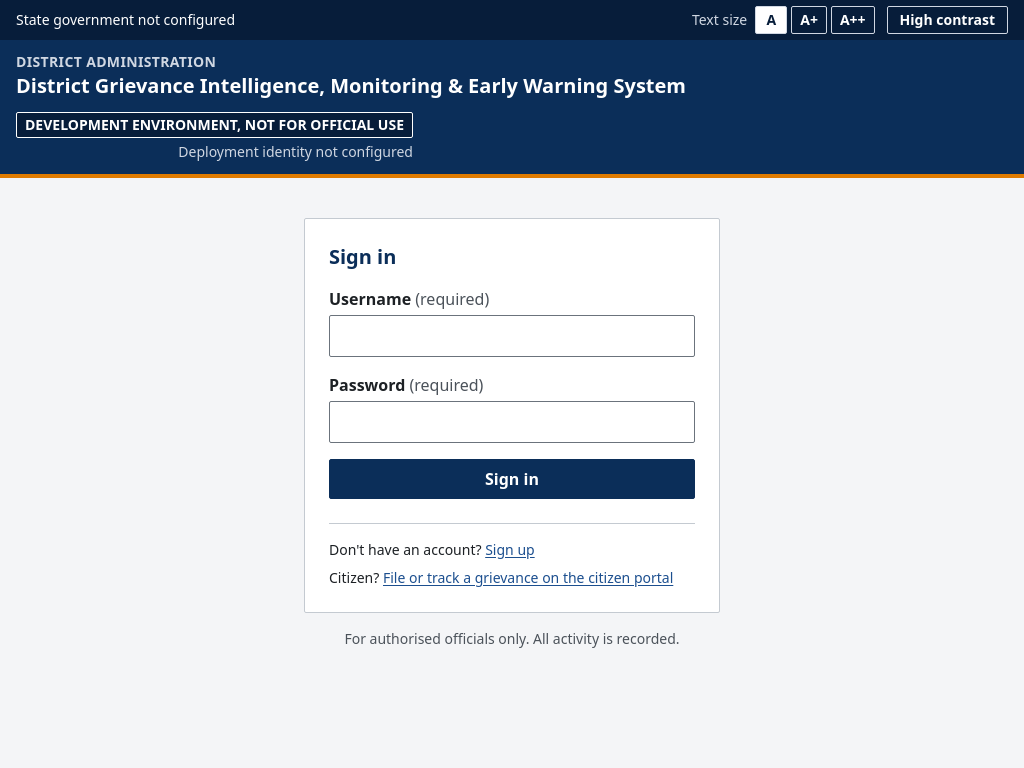
it: Sign-in flow › validates, shows the generic server error and never echoes the password
The width and height of the screenshot is (1024, 768).
Click the button "Sign in". click: (512, 478)
box: x1=329 y1=458 x2=695 y2=498
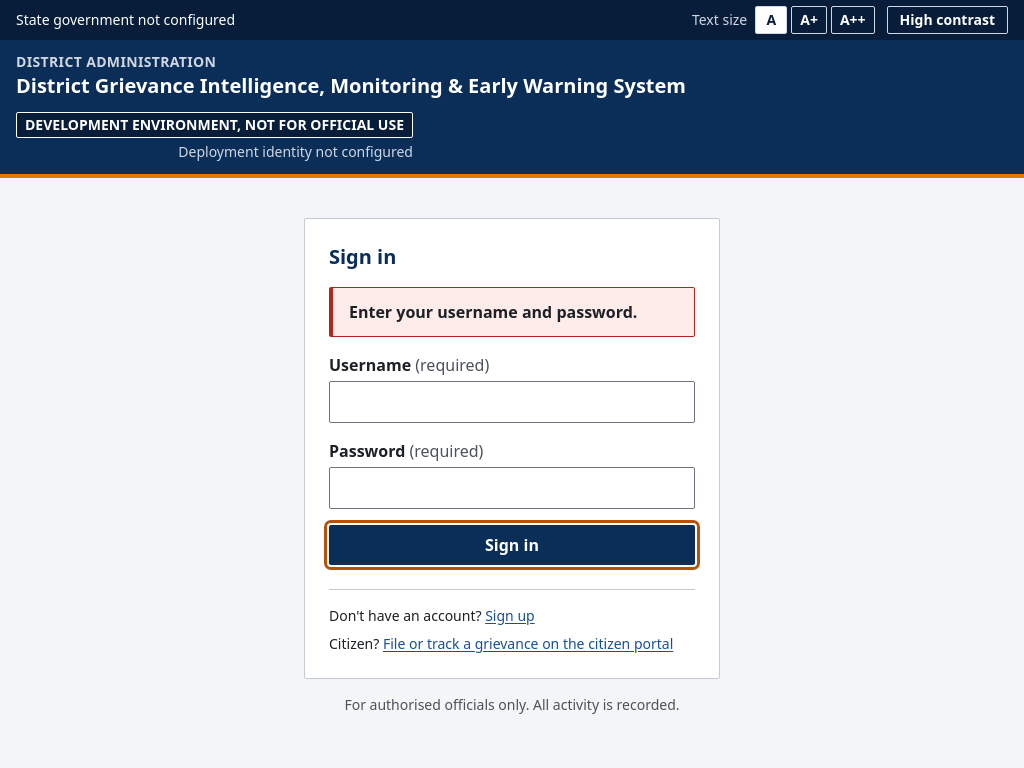
Expected: the message reads "Enter your username and password.", x1=349 y1=300 x2=637 y2=322
Type "officer" into the field labelled "Username (required)". click: (512, 402)
box: x1=329 y1=380 x2=695 y2=422
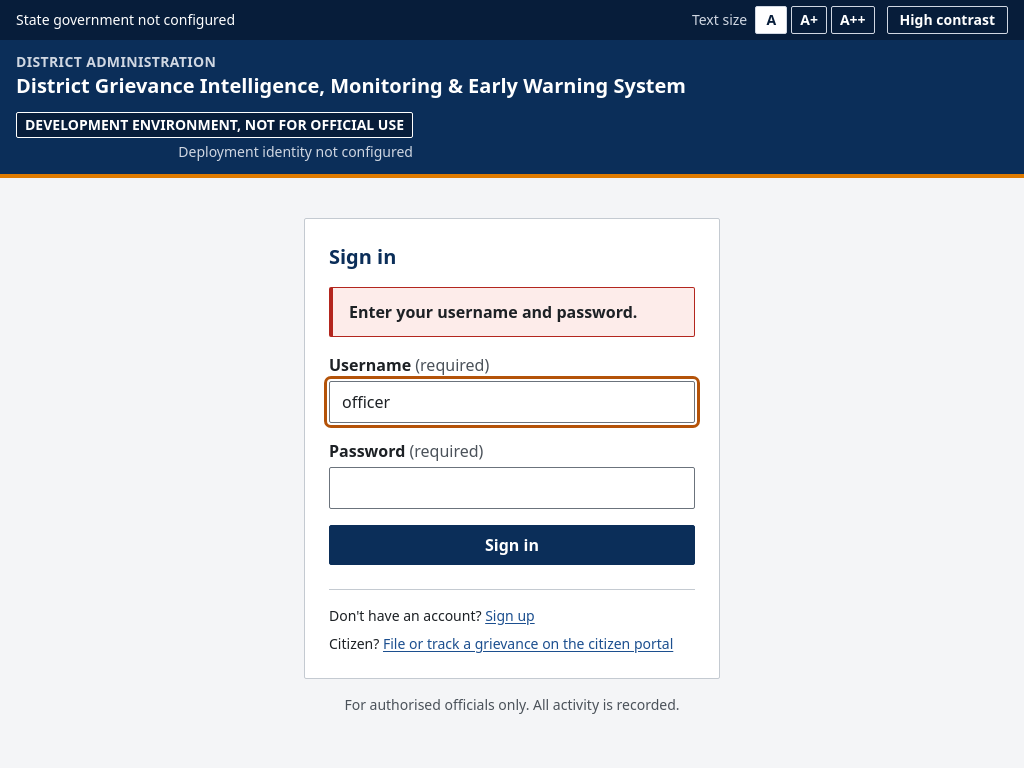
Type "wrong-pass" into the password field labelled "Password (required)". click: (512, 488)
box: x1=329 y1=466 x2=695 y2=508
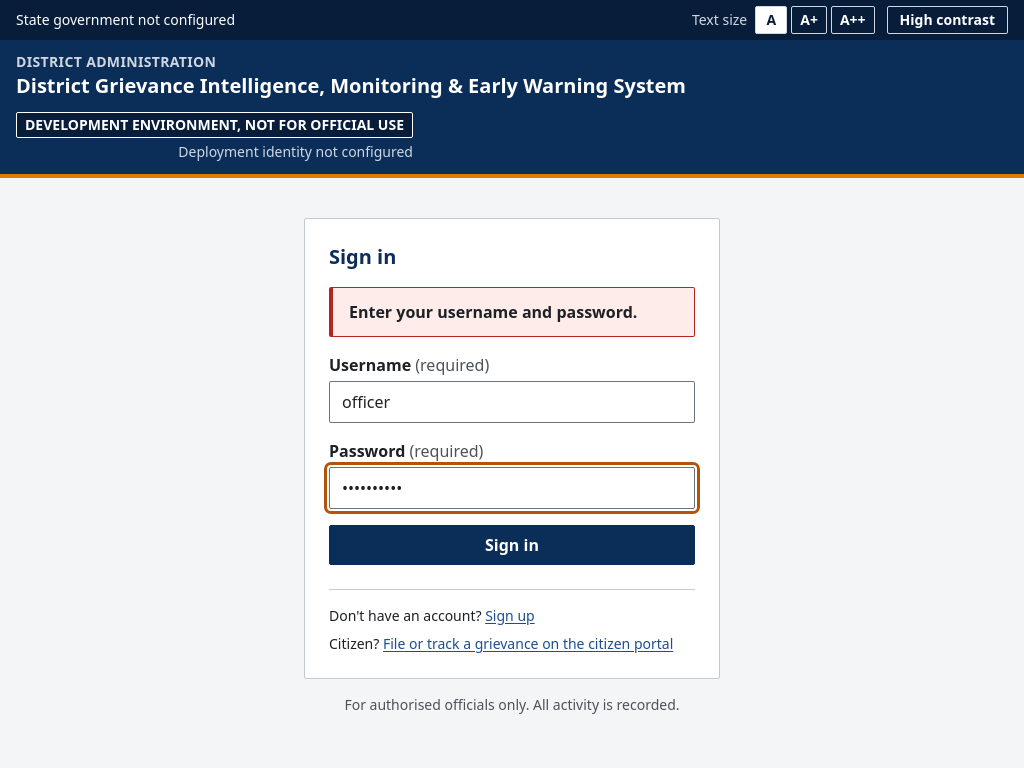
Click the button "Sign in". click: (512, 544)
box: x1=329 y1=524 x2=695 y2=564
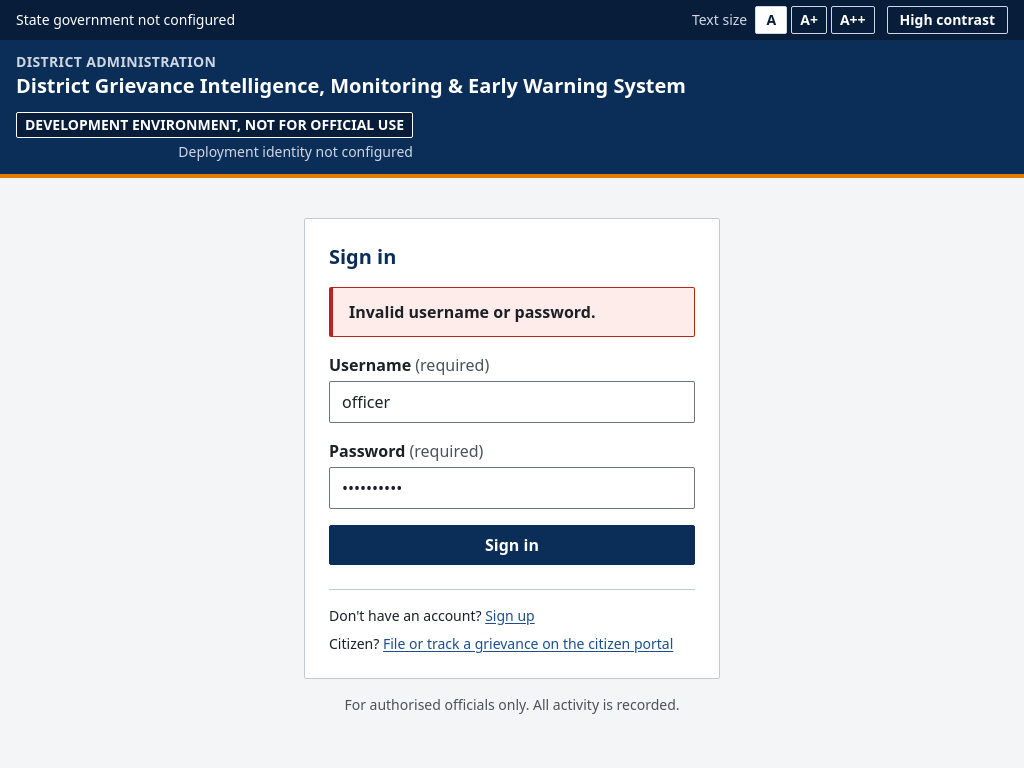
Expected: the text "Invalid username or password." is shown, x1=348 y1=300 x2=596 y2=322
